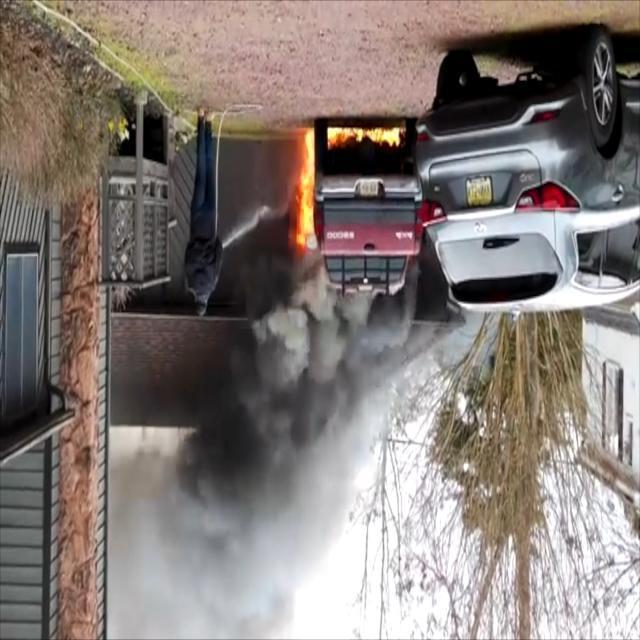fire: (276, 126, 316, 251), (319, 122, 397, 150)
